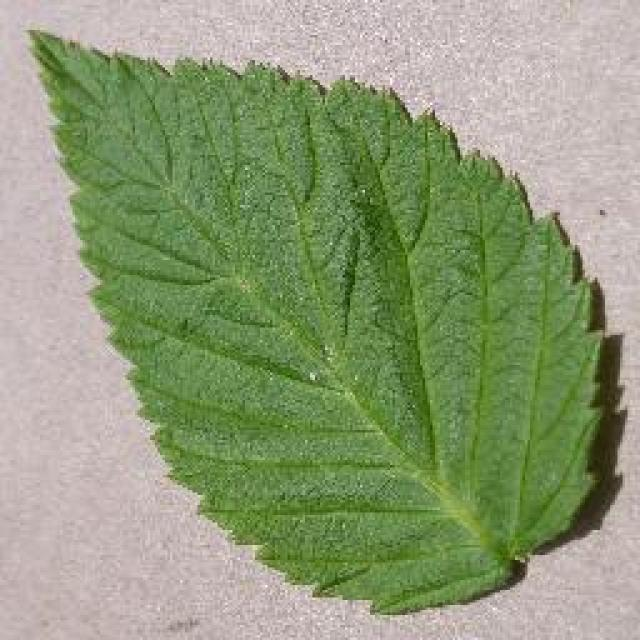Ras_healthy: (50, 60, 593, 569)
